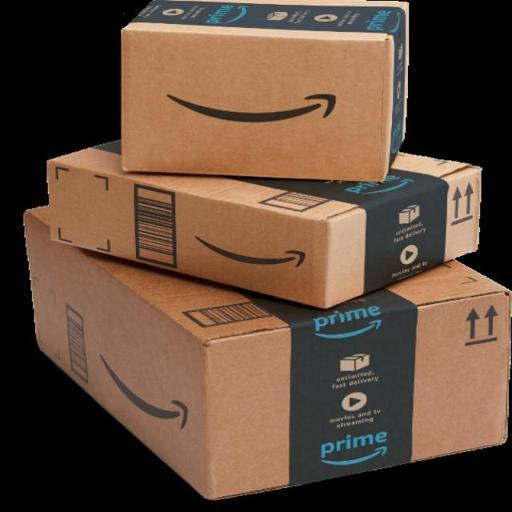Amazon: (20, 208, 512, 495), (48, 138, 490, 303), (121, 0, 406, 173)
